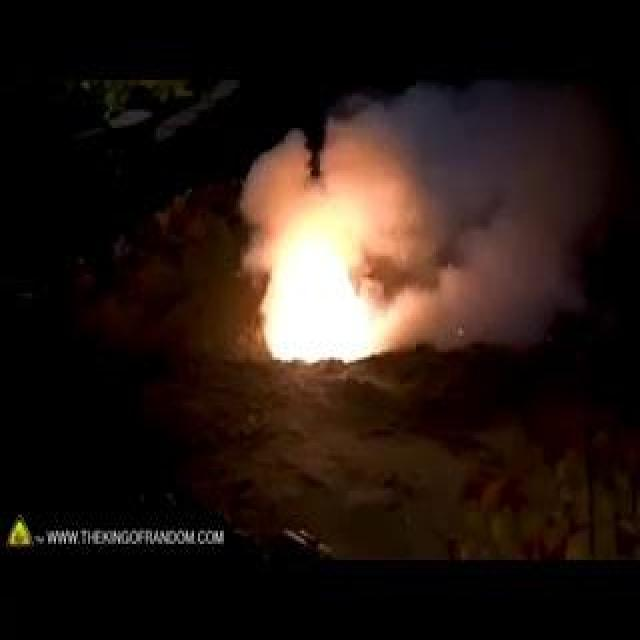Fire: (168, 182, 339, 278)
